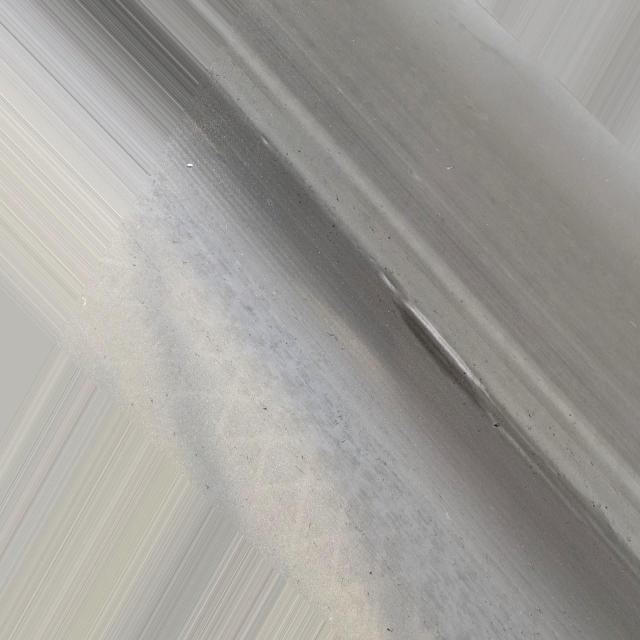Impact Damage: (374, 278, 492, 417)
